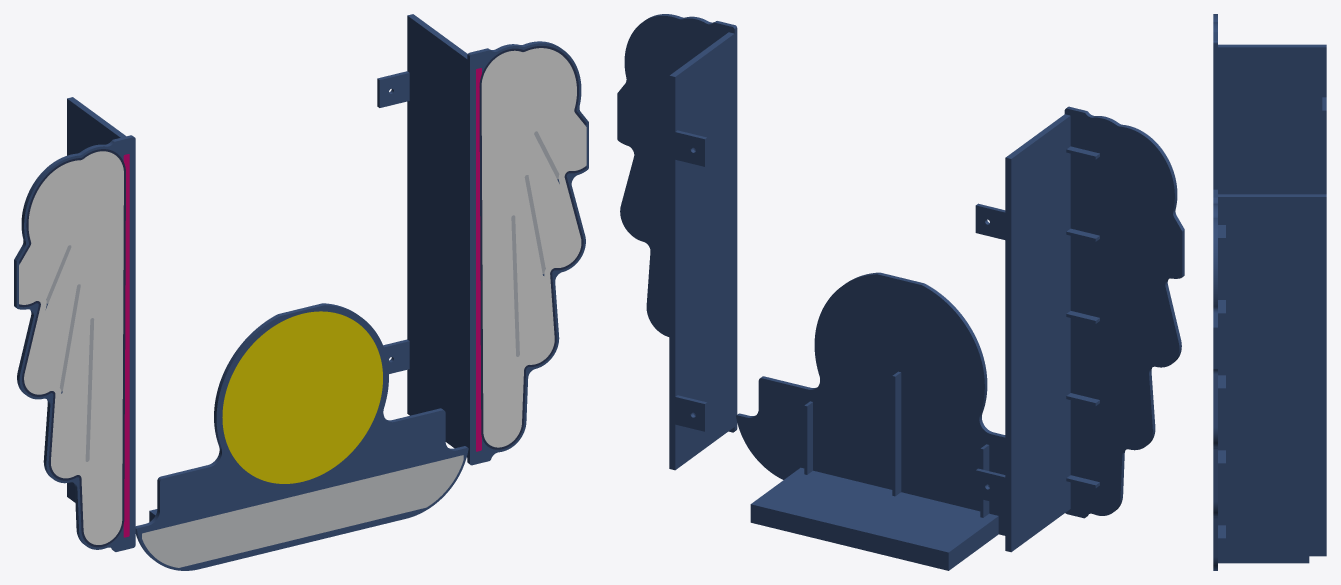
File: parts.glb
The picture shows the model from 3 angles, left to right: view 1: azimuth 30°, elevation 25°; view 2: azimuth 150°, elevation 25°; view 3: azimuth 270°, elevation 25°; orthographic projection. The views are drawn at different scales.
Parts seen in each view (by area): view 1: wing_right__base, wing_left__white, wing_right__white, topper__yellow, topper__base, topper__silver, wing_left__base, wing_left__ink, wing_right__ink, wing_left__red, wing_right__red, wing_left__grey (+1 smaller); view 2: wing_left__base, topper__base, wing_right__base; view 3: wing_right__base, wing_left__base, topper__base.
Boxes of the visible parts, <box> form: wing_right__base: <box>377,14,588,465</box>; wing_left__white: <box>19,151,123,544</box>; wing_right__white: <box>481,48,586,447</box>; topper__yellow: <box>222,311,382,483</box>; topper__base: <box>135,303,468,570</box>; topper__silver: <box>142,455,463,567</box>; wing_left__base: <box>14,97,135,551</box>; wing_left__ink: <box>19,149,125,547</box>; wing_right__ink: <box>479,46,586,449</box>; wing_left__red: <box>123,154,129,537</box>; wing_right__red: <box>476,68,481,451</box>; wing_left__grey: <box>46,245,94,461</box>; wing_left__base: <box>975,106,1184,552</box>; topper__base: <box>736,272,1005,570</box>; wing_right__base: <box>617,14,737,470</box>; wing_right__base: <box>1213,189,1326,570</box>; wing_left__base: <box>1213,14,1326,194</box>; topper__base: <box>1213,556,1309,570</box>.
Size of the model in its own units: 385 by 288 by 73.
